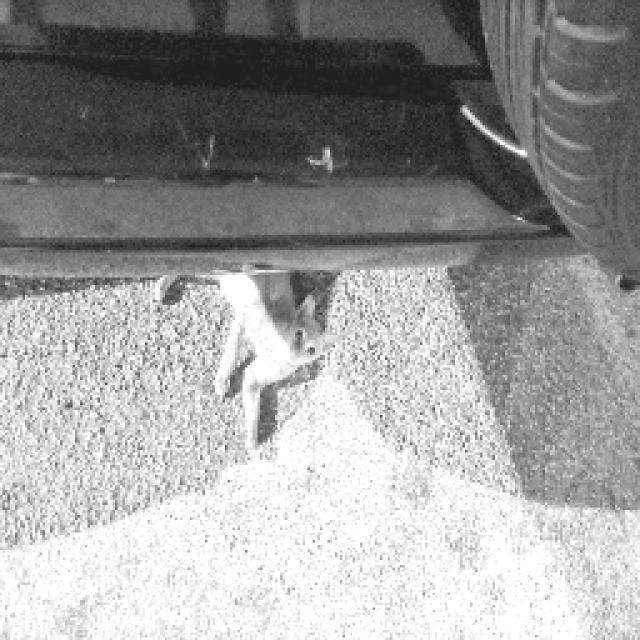cat: (144, 266, 339, 456)
